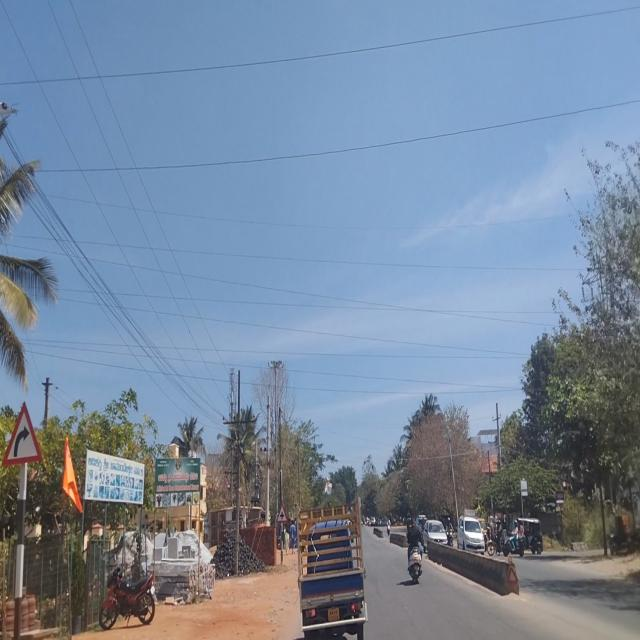bien_cam: (4, 394, 38, 468), (276, 502, 288, 524)
